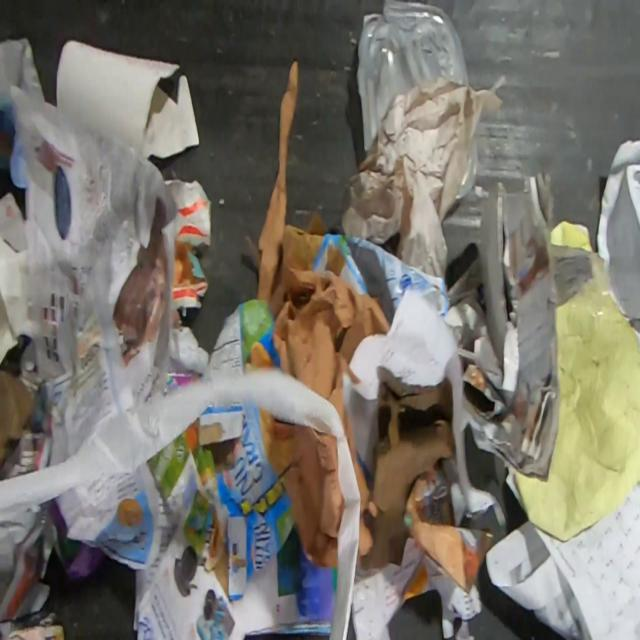cardboard: (359, 364, 456, 571), (198, 399, 297, 600), (146, 429, 224, 574), (208, 300, 282, 373)
rigid_plastic: (356, 0, 470, 152), (455, 134, 477, 200)
